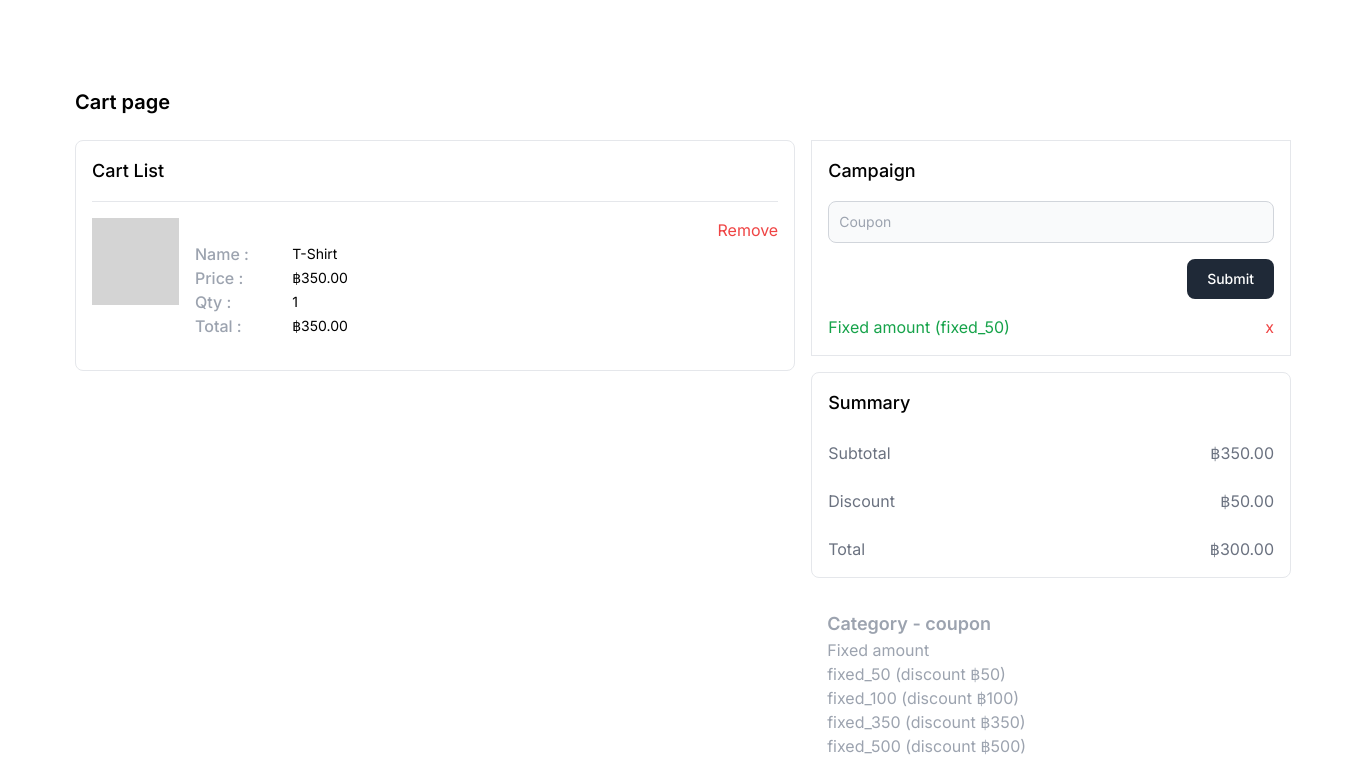
Home Page › should have render cart item when have some product in cart and have some campaign promotion
This screenshot has width=1366, height=761.
expect the element with test id "campaign-line-item" is shown: met, box top-left (828, 315), bottom-right (1274, 339)
Step 1. Click the text with test id "campaign-cancel-button" → (1270, 327), box top-left (1265, 315), bottom-right (1274, 339)
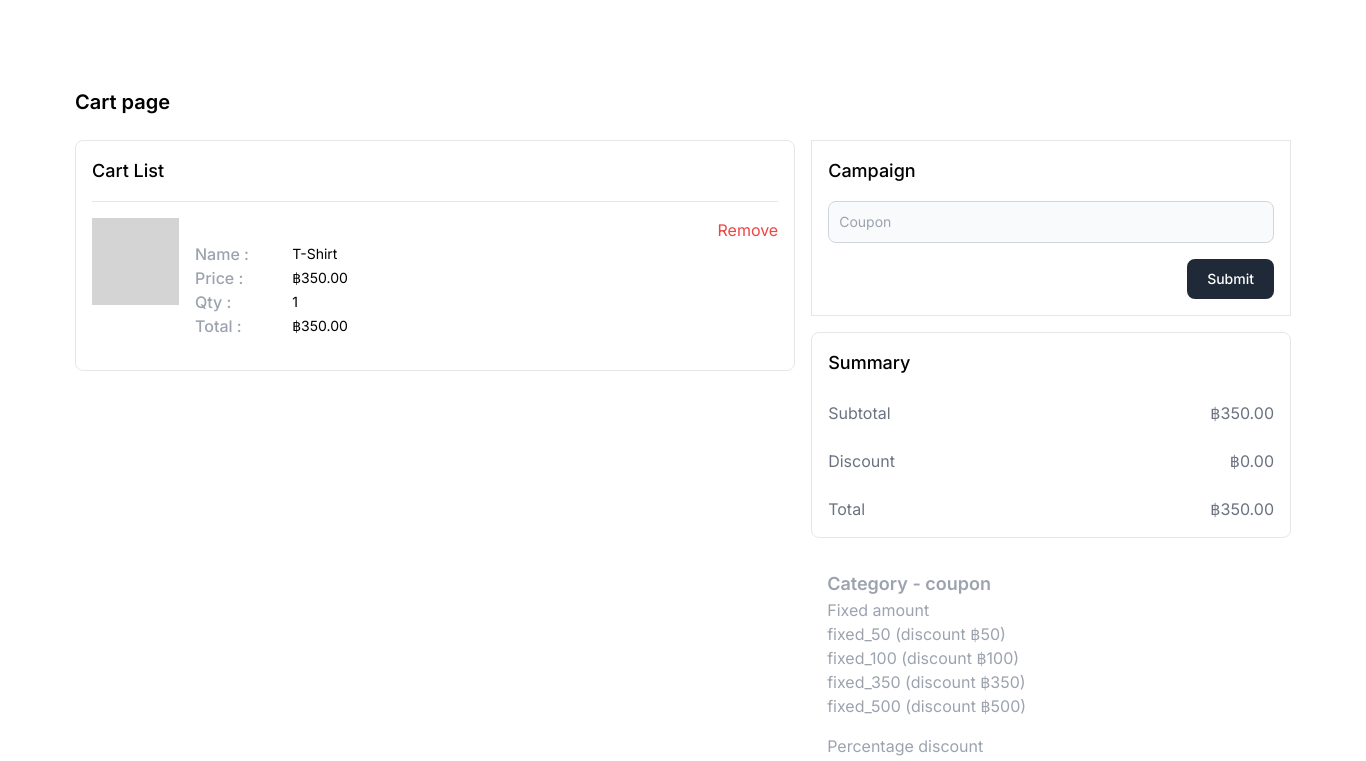
expect the text with test id "campaign-cancel-button" is gone: met
